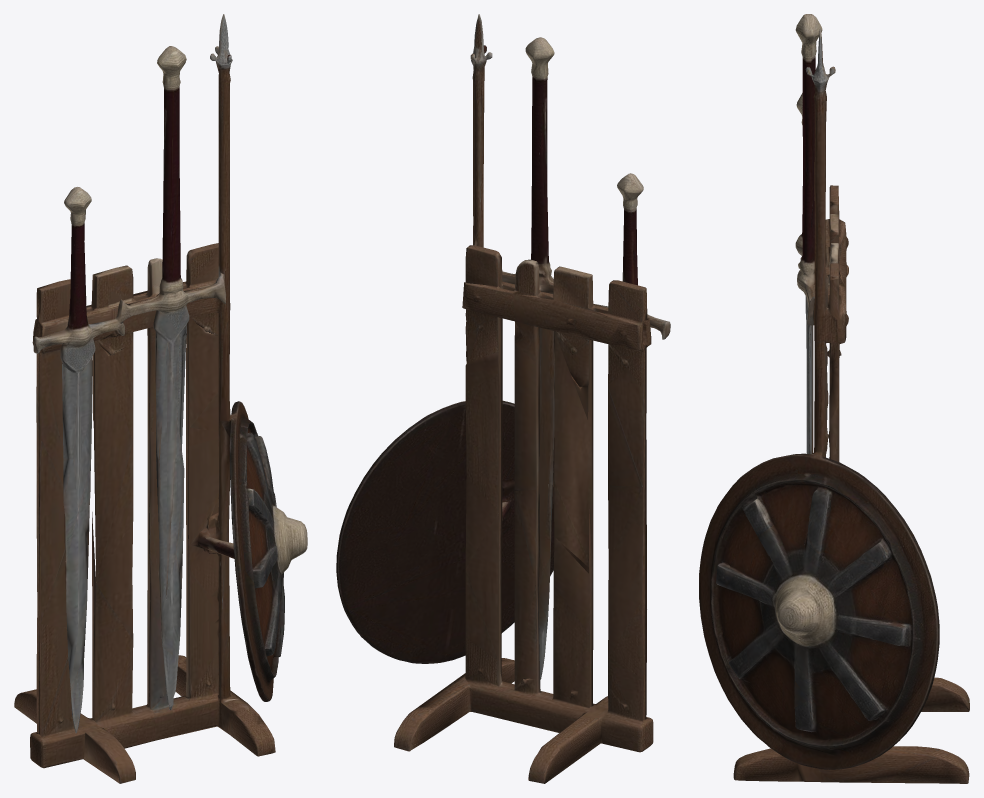
Rendered from weapon_rack.gltf.
3 views of the same model, side by side, from view 1: azimuth 30°, elevation 25°; view 2: azimuth 150°, elevation 25°; view 3: azimuth 270°, elevation 25° (orthographic). The views are drawn at different scales.
Parts seen in each view (by area): view 1: weapon_rack; view 2: weapon_rack; view 3: weapon_rack.
Part boxes in pixels (x1=…): weapon_rack: x1=14, y1=14, x2=307, y2=783; weapon_rack: x1=336, y1=14, x2=670, y2=783; weapon_rack: x1=699, y1=14, x2=969, y2=783.
Bounding box in the file's own units: 0.7583 × 1.8 × 0.592.
Materials: 1 (1 with a texture image).
